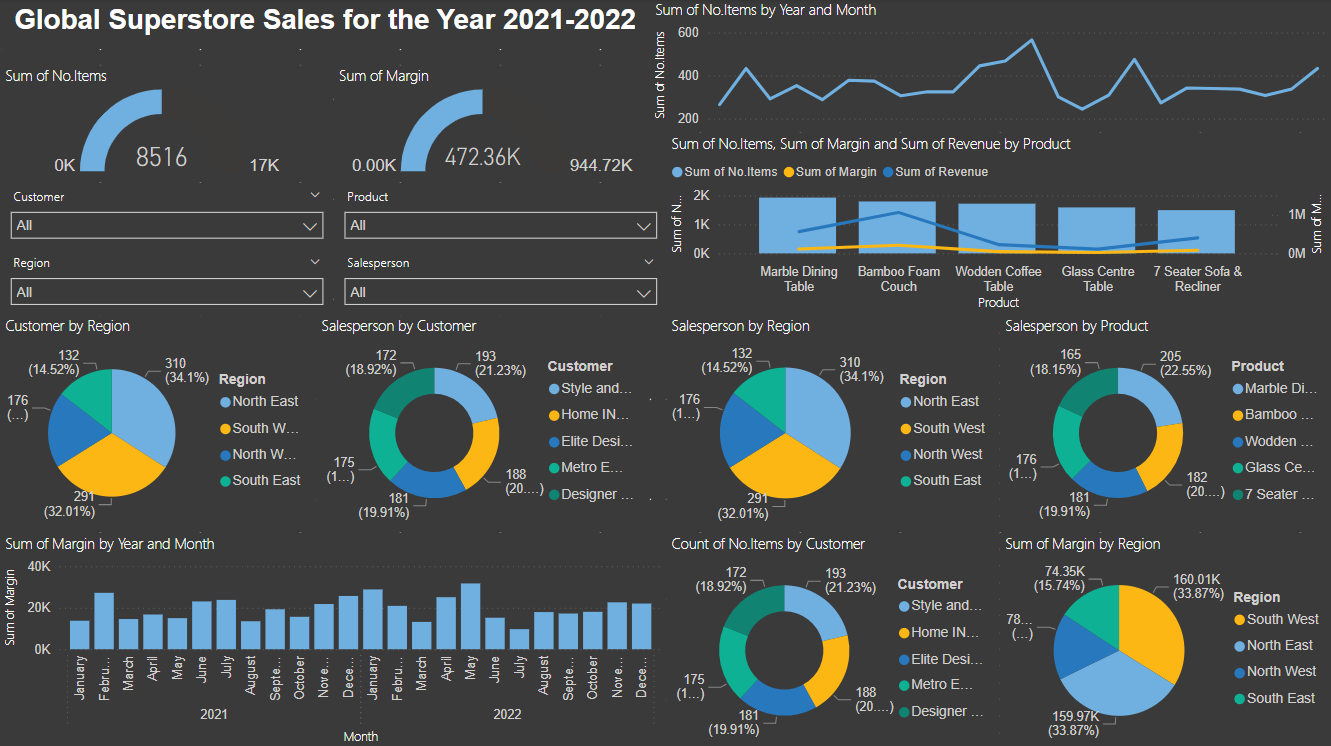

This screenshot's page, from the dashboard's own definition file:
{"tool":"powerbi","page":{"name":"Page 1","canvas":[1280,720],"ordinal":0},"visuals":[{"type":"textbox","box":[0,0,624,48],"z":0},{"type":"clusteredColumnChart","fields":{"Y":["Sum(Raw_Data.Margin)"],"Category":["Raw_Data.Date.Variation.Date Hierarchy.Year","Raw_Data.Date.Variation.Date Hierarchy.Month"]},"box":[0,512,640,208],"z":1000},{"type":"donutChart","fields":{"Category":["Raw_Data.Customer"],"Y":["CountNonNull(Raw_Data.No.Items)"]},"box":[640,512,320,208],"z":2000},{"type":"pieChart","fields":{"Category":["Raw_Data.Region"],"Y":["Sum(Raw_Data.Margin)"]},"box":[960,512,320,208],"z":3000},{"type":"pieChart","title":"Customer by Region","fields":{"Category":["Raw_Data.Region"],"Y":["CountNonNull(Raw_Data.Customer)"]},"box":[0,304,304,208],"z":4000},{"type":"donutChart","title":"Salesperson by Customer","fields":{"Category":["Raw_Data.Customer"],"Y":["CountNonNull(Raw_Data.Salesperson)"]},"box":[304,304,320,208],"z":5000},{"type":"pieChart","title":"Salesperson by Region","fields":{"Y":["CountNonNull(Raw_Data.Salesperson)"],"Category":["Raw_Data.Region"]},"box":[640,304,320,208],"z":6000},{"type":"donutChart","title":"Salesperson by Product","fields":{"Category":["Raw_Data.Product"],"Y":["CountNonNull(Raw_Data.Salesperson)"]},"box":[960,304,320,208],"z":7000},{"type":"slicer","fields":{"Values":["Raw_Data.Customer"]},"box":[0,176,320,64],"z":8000},{"type":"lineClusteredColumnComboChart","fields":{"Category":["Raw_Data.Product"],"Y":["Sum(Raw_Data.No.Items)"],"Y2":["Sum(Raw_Data.Margin)","Sum(Raw_Data.Revenue)"]},"box":[640,128,640,176],"z":9000},{"type":"lineChart","fields":{"Y":["Sum(Raw_Data.No.Items)"],"Category":["Raw_Data.Date.Variation.Date Hierarchy.Year","Raw_Data.Date.Variation.Date Hierarchy.Month"]},"box":[624,0,656,128],"z":10000},{"type":"gauge","fields":{"Y":["Sum(Raw_Data.No.Items)"]},"box":[0,64,320,112],"z":11000},{"type":"gauge","fields":{"Y":["Sum(Raw_Data.Margin)"]},"box":[320,64,304,112],"z":12000},{"type":"slicer","fields":{"Values":["Raw_Data.Region"]},"box":[0,240,320,64],"z":12001},{"type":"slicer","fields":{"Values":["Raw_Data.Product"]},"box":[320,176,320,64],"z":12002},{"type":"slicer","fields":{"Values":["Raw_Data.Salesperson"]},"box":[320,240,320,64],"z":12003}]}

Visuals, with their boxes in screenshot pixels (x1, y1, x2, y2), scaled from the page's 1280x720 canvas onto the 1331x746 screenshot:
textbox: select_region(0, 0, 649, 50)
clusteredColumnChart - Sum(Raw_Data.Margin) x Raw_Data.Date.Variation.Date Hierarchy.Year: select_region(0, 530, 666, 745)
donutChart - Raw_Data.Customer x CountNonNull(Raw_Data.No.Items): select_region(666, 530, 998, 745)
pieChart - Raw_Data.Region x Sum(Raw_Data.Margin): select_region(998, 530, 1330, 745)
"Customer by Region" pieChart: select_region(0, 315, 316, 530)
"Salesperson by Customer" donutChart: select_region(316, 315, 649, 530)
"Salesperson by Region" pieChart: select_region(666, 315, 998, 530)
"Salesperson by Product" donutChart: select_region(998, 315, 1330, 530)
slicer - Raw_Data.Customer: select_region(0, 182, 333, 249)
lineClusteredColumnComboChart - Raw_Data.Product x Sum(Raw_Data.No.Items): select_region(666, 133, 1330, 315)
lineChart - Sum(Raw_Data.No.Items) x Raw_Data.Date.Variation.Date Hierarchy.Year: select_region(649, 0, 1330, 133)
gauge - Sum(Raw_Data.No.Items): select_region(0, 66, 333, 182)
gauge - Sum(Raw_Data.Margin): select_region(333, 66, 649, 182)
slicer - Raw_Data.Region: select_region(0, 249, 333, 315)
slicer - Raw_Data.Product: select_region(333, 182, 666, 249)
slicer - Raw_Data.Salesperson: select_region(333, 249, 666, 315)
